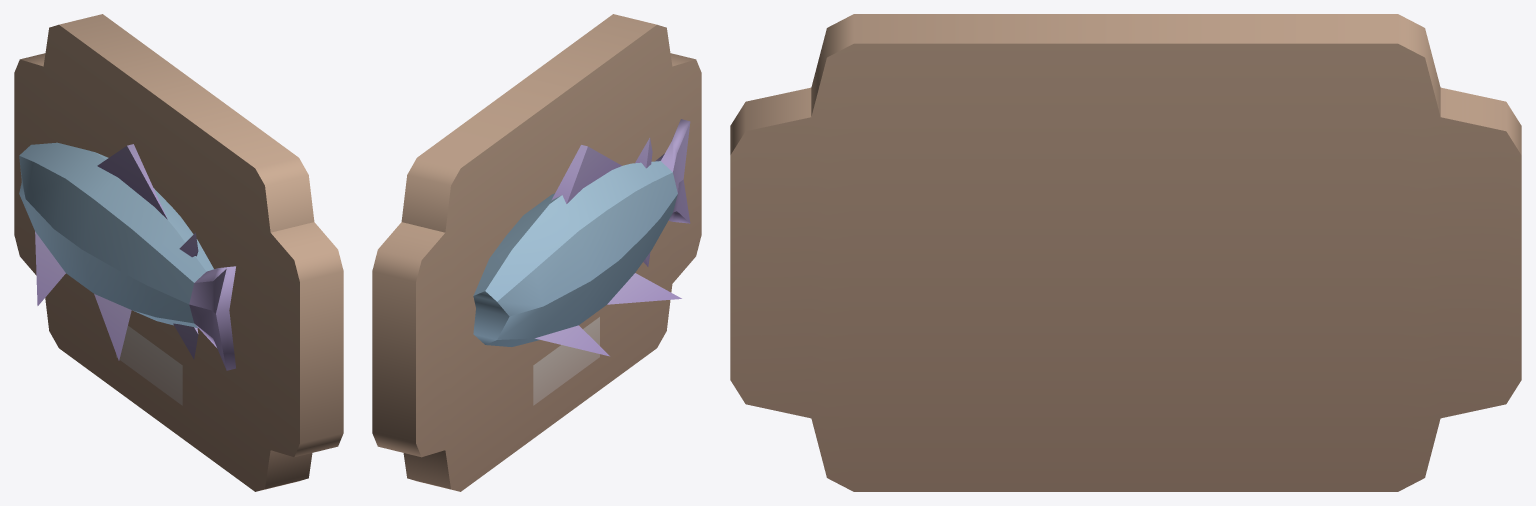
The model's file is mount-fish (%wall).glb.
3 renders of one model, left to right at view 1: azimuth 30°, elevation 25°; view 2: azimuth 150°, elevation 25°; view 3: azimuth 270°, elevation 25°, orthographic. The views are drawn at different scales.
Visible parts, largest first — view 1: mount-fish (%wall); view 2: mount-fish (%wall); view 3: mount-fish (%wall).
Boxes of the visible parts, bbox=[...] form: mount-fish (%wall): bbox=[14, 14, 343, 491]; mount-fish (%wall): bbox=[372, 14, 701, 491]; mount-fish (%wall): bbox=[730, 14, 1521, 491].
Bounding box in the file's own units: 0.1673 × 0.4 × 0.64.
